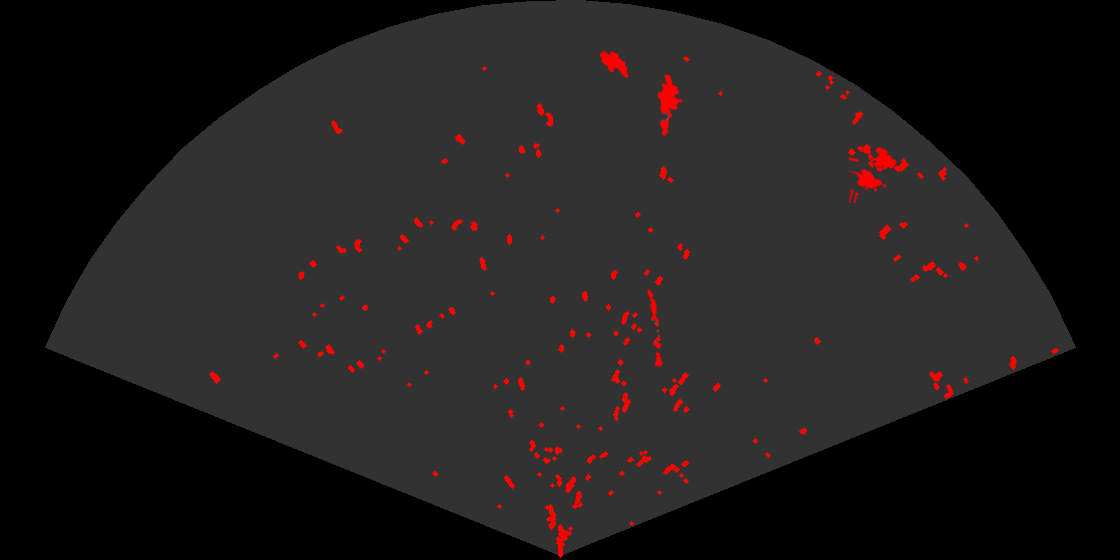AUV: (598, 49, 630, 80)
cage: (849, 145, 898, 203)
chain: (646, 287, 665, 367)
frogman: (656, 75, 684, 137)
